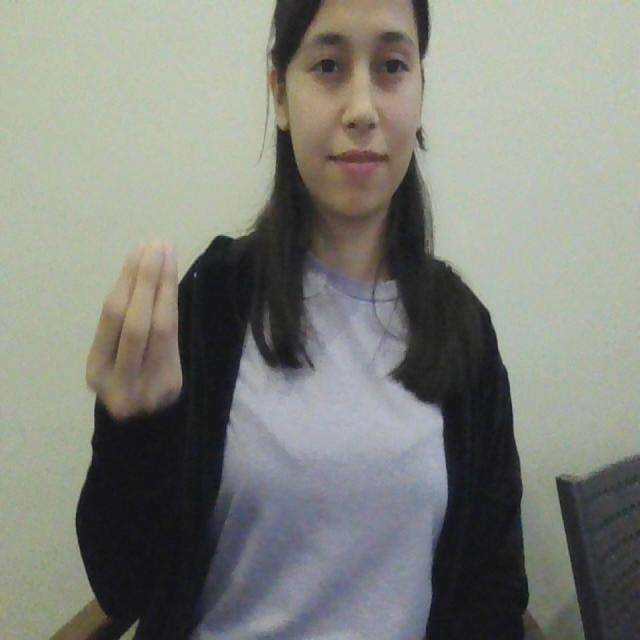iyi: (81, 225, 191, 422)
